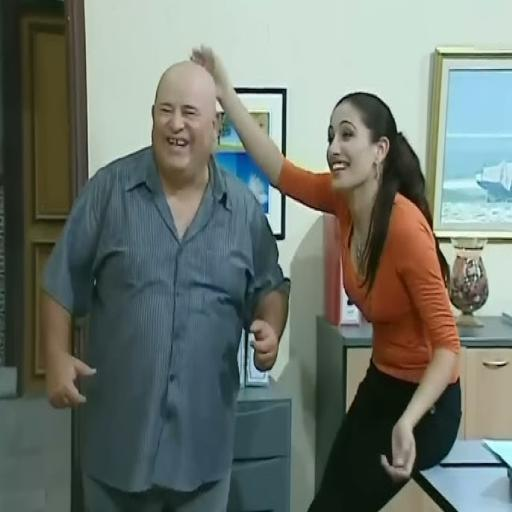Dalanda: (327, 95, 389, 200)
sboui: (152, 62, 216, 183)
